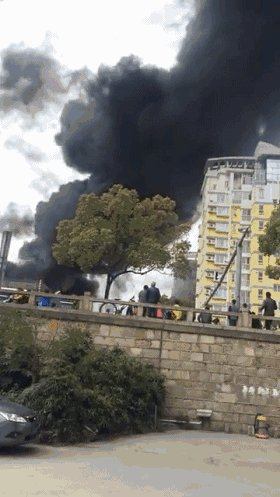smoke: (78, 3, 278, 167)
